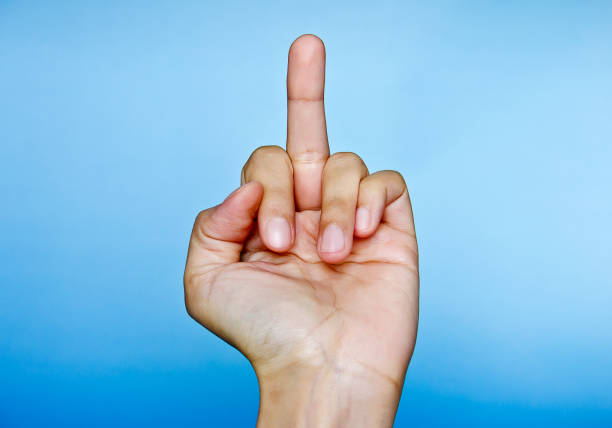insulting_gesture: (178, 29, 422, 380)
